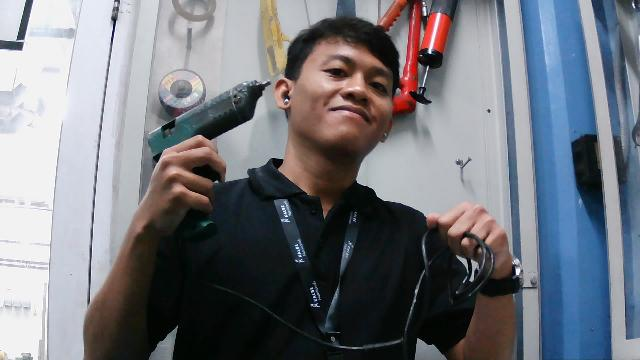gun_lem: (137, 77, 276, 241)
